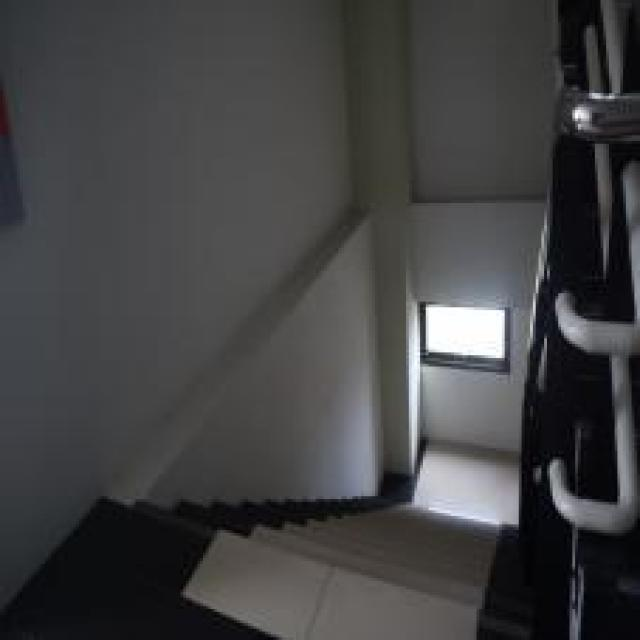downstair: (300, 469, 508, 618)
